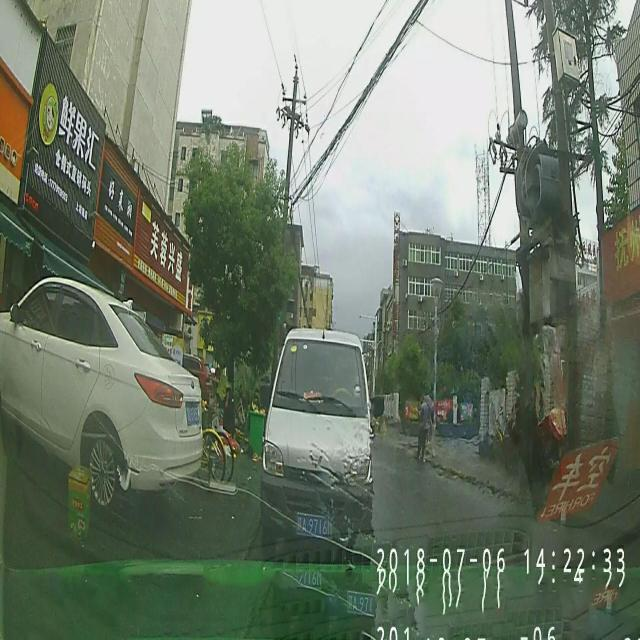car: (0, 275, 201, 507), (262, 326, 372, 554)
